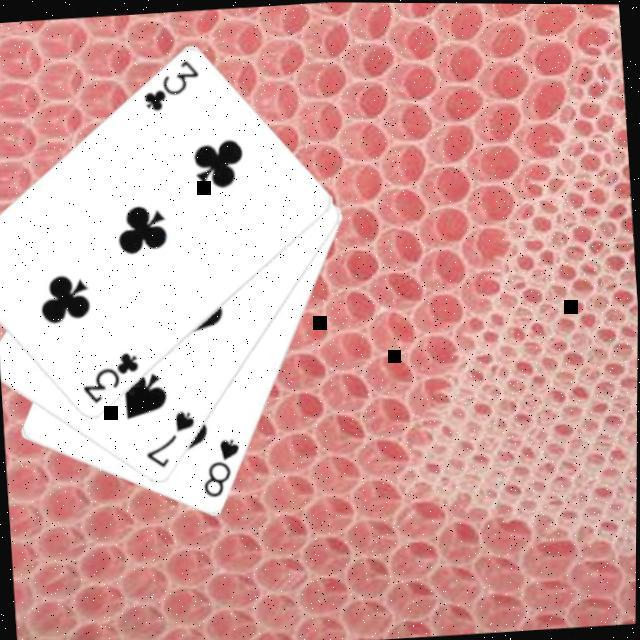3C: (136, 56, 204, 118), (76, 348, 144, 409)
7S: (139, 407, 201, 474)
8S: (197, 435, 246, 503)
